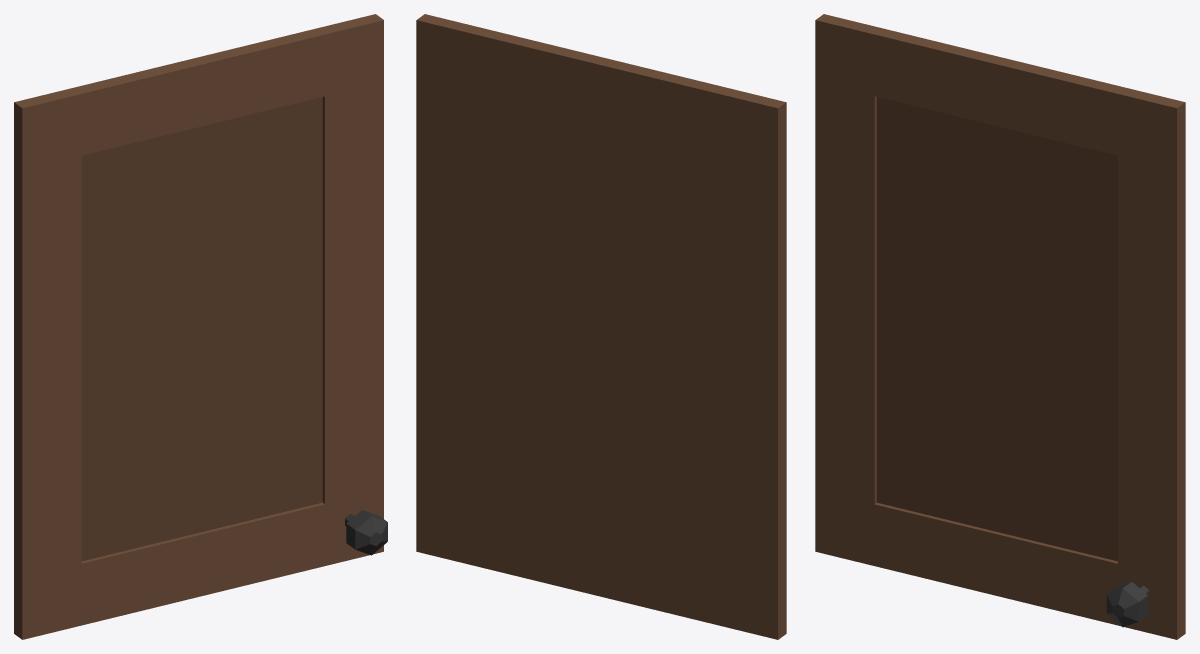
File: Wardrobe7_C3_05.fbx
3 views of the same model, side by side, from view 1: azimuth 30°, elevation 25°; view 2: azimuth 150°, elevation 25°; view 3: azimuth 330°, elevation 25° (orthographic).
Parts seen in each view (by area): view 1: Wardrobe7_C3_05; view 2: Wardrobe7_C3_05; view 3: Wardrobe7_C3_05.
Part boxes in pixels (bbox=[...]): Wardrobe7_C3_05: bbox=[14, 14, 387, 639]; Wardrobe7_C3_05: bbox=[416, 14, 786, 639]; Wardrobe7_C3_05: bbox=[815, 14, 1185, 639].
Bounding box in the file's own units: 50 × 70.23 × 8.1.
